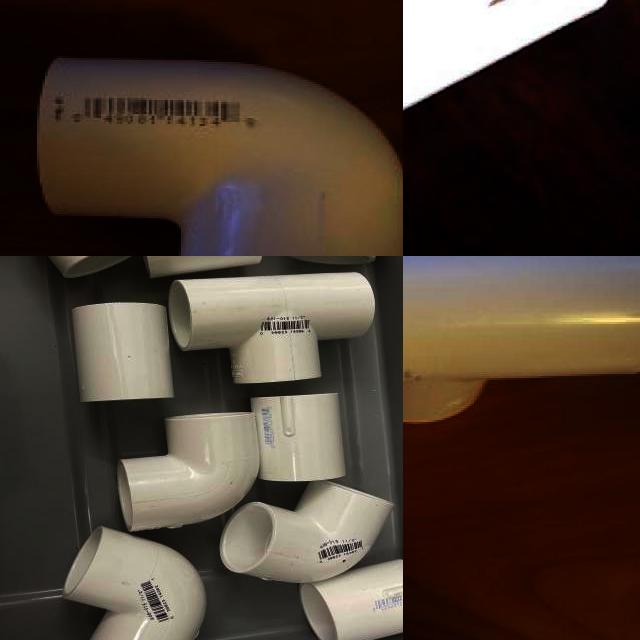L Joint: (35, 57, 403, 256), (220, 481, 391, 583), (119, 413, 260, 534), (63, 527, 204, 640)
T Joint: (403, 256, 640, 426), (167, 272, 376, 391), (403, 0, 611, 116)
